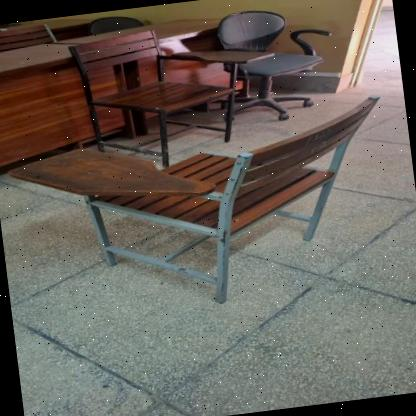chair: (0, 85, 407, 330), (57, 7, 289, 164), (204, 0, 351, 127)
